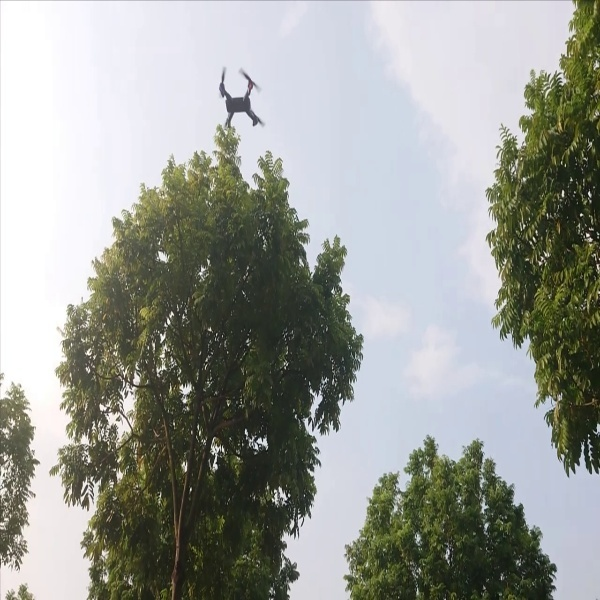drone: (207, 58, 269, 135)
